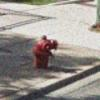a fire hydrant: (30, 36, 58, 70)
